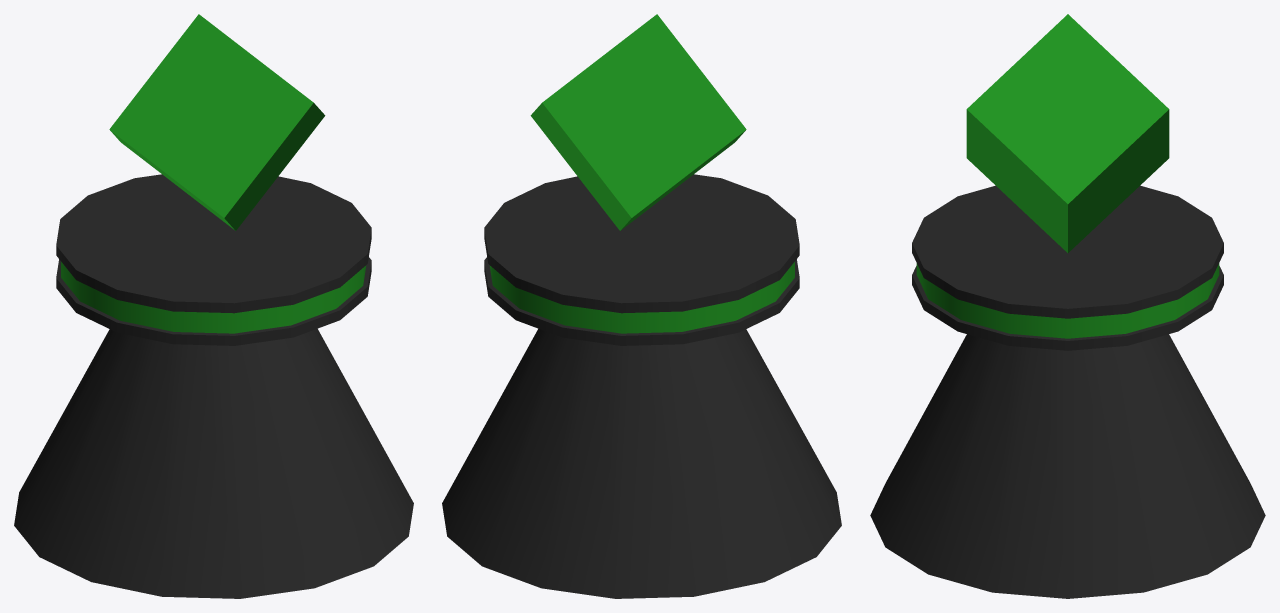
The model's file is playerPieceGreen.fbx.
3 renders of one model, left to right at view 1: azimuth 30°, elevation 25°; view 2: azimuth 150°, elevation 25°; view 3: azimuth 270°, elevation 25°, orthographic. The views are drawn at different scales.
Visible parts, largest first — view 1: playerPieceGreen; view 2: playerPieceGreen; view 3: playerPieceGreen.
Part boxes in pixels (x1=…): playerPieceGreen: x1=14, y1=14, x2=413, y2=598; playerPieceGreen: x1=442, y1=14, x2=841, y2=598; playerPieceGreen: x1=870, y1=14, x2=1265, y2=598.
Size of the model in its own units: 137 by 189 by 137.
